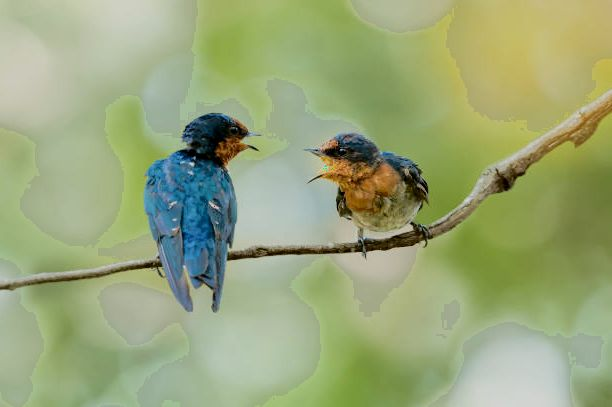Bird: (137, 107, 261, 313), (300, 128, 434, 257)
